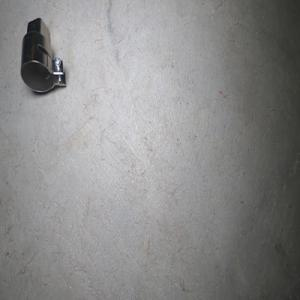MetalPart: (19, 16, 66, 93)
